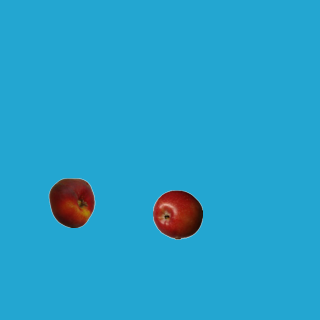Apple Braeburn: (152, 189, 202, 239)
Nectarine Flat: (46, 177, 96, 227)
